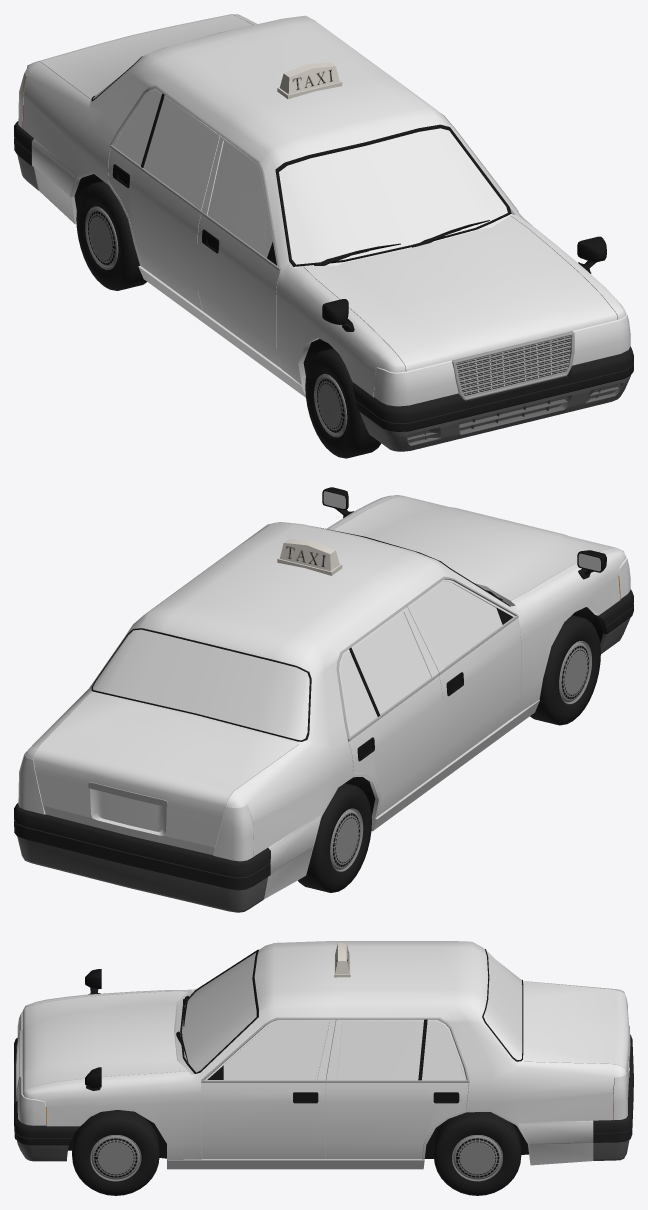
The model's file is Taxi.fbx.
The picture shows the model from 3 angles, top to bottom: view 1: azimuth 30°, elevation 25°; view 2: azimuth 150°, elevation 25°; view 3: azimuth 270°, elevation 25°; orthographic projection. The views are drawn at different scales.
Visible parts, largest first — view 1: BodyLP, WheelBR, WheelFR; view 2: BodyLP, WheelBR, WheelFR; view 3: BodyLP, WheelFL, WheelBL.
Part boxes in pixels (left/top/right/bottom): BodyLP: left=14, top=14, right=633, bottom=451; WheelBR: left=76, top=181, right=146, bottom=290; WheelFR: left=305, top=348, right=381, bottom=458; BodyLP: left=14, top=487, right=633, bottom=912; WheelBR: left=298, top=783, right=371, bottom=892; WheelFR: left=530, top=615, right=600, bottom=725; BodyLP: left=14, top=941, right=633, bottom=1169; WheelFL: left=72, top=1110, right=159, bottom=1195; WheelBL: left=433, top=1112, right=521, bottom=1195.
Size of what is drawn, in the model's own units: 189 by 165 by 460.
